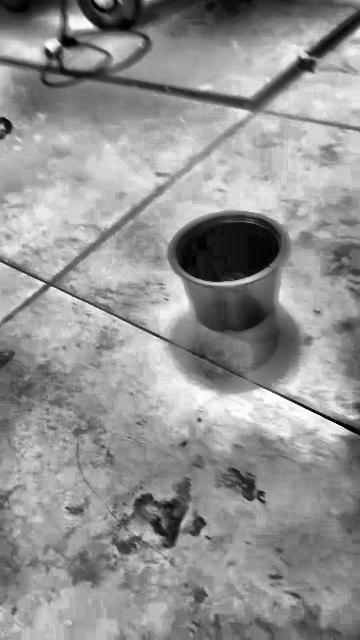pot: (169, 211, 288, 332)
